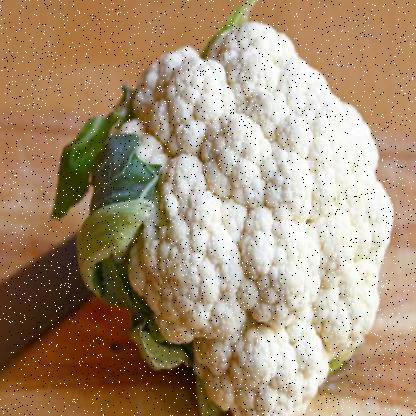cauliflower: (103, 26, 392, 402)
